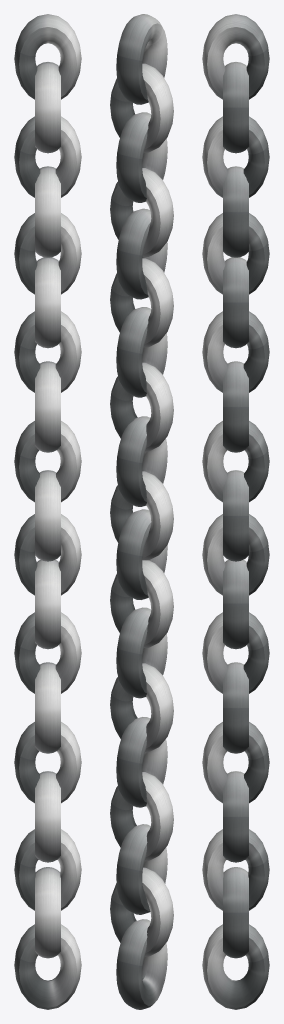
Rendered from chain.fbx.
The picture shows the model from 3 angles, left to right: view 1: azimuth 90°, elevation 25°; view 2: azimuth 150°, elevation 25°; view 3: azimuth 270°, elevation 25°; orthographic projection.
Visible parts, largest first — view 1: pTorus23, pTorus36, pTorus31, pTorus32, pTorus27, pTorus33, pTorus29, pTorus41, pTorus34, pTorus35, pTorus24, pTorus25 (+7 smaller); view 2: pTorus36, pTorus23, pTorus31, pTorus32, pTorus27, pTorus29, pTorus33, pTorus37, pTorus28, pTorus40, pTorus41, pTorus25 (+7 smaller); view 3: pTorus23, pTorus36, pTorus31, pTorus32, pTorus27, pTorus33, pTorus29, pTorus41, pTorus34, pTorus35, pTorus24, pTorus25 (+7 smaller).
Part boxes in pixels (box(x1,y1,x2,y2)): pTorus23: box(14, 14, 81, 99); pTorus36: box(14, 924, 81, 1009); pTorus31: box(14, 421, 81, 502); pTorus32: box(14, 722, 81, 803); pTorus27: box(14, 116, 81, 197); pTorus33: box(14, 311, 81, 392); pTorus29: box(14, 612, 81, 693); pTorus41: box(14, 829, 81, 910); pTorus34: box(14, 213, 81, 294); pTorus35: box(14, 514, 81, 595); pTorus24: box(35, 867, 60, 958); pTorus25: box(35, 62, 60, 153); pTorus36: box(116, 919, 167, 1009); pTorus23: box(116, 14, 167, 104); pTorus31: box(116, 416, 167, 506); pTorus32: box(116, 717, 167, 807); pTorus27: box(116, 112, 167, 202); pTorus29: box(116, 607, 167, 698); pTorus33: box(116, 307, 167, 397); pTorus37: box(110, 362, 173, 451); pTorus28: box(110, 663, 173, 752); pTorus40: box(110, 772, 173, 860); pTorus41: box(116, 824, 167, 914); pTorus25: box(110, 63, 173, 152); pTorus23: box(202, 14, 269, 99); pTorus36: box(202, 924, 269, 1009); pTorus31: box(202, 421, 269, 502); pTorus32: box(202, 722, 269, 803); pTorus27: box(202, 116, 269, 197); pTorus33: box(202, 311, 269, 392); pTorus29: box(202, 612, 269, 693); pTorus41: box(202, 829, 269, 910); pTorus34: box(202, 213, 269, 294); pTorus35: box(202, 514, 269, 595); pTorus24: box(223, 867, 248, 958); pTorus25: box(223, 62, 248, 153).
Size of the model in its own units: 203 by 3307 by 203.
1 material, 1 textured.
